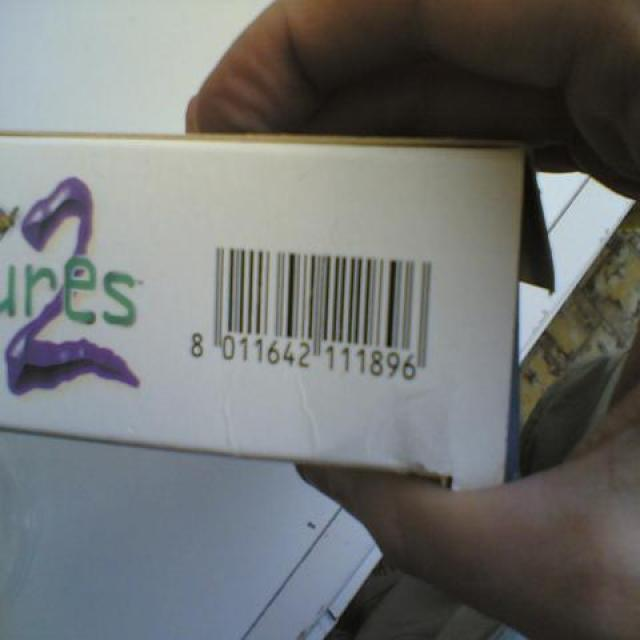Barcode: (170, 209, 467, 422)
